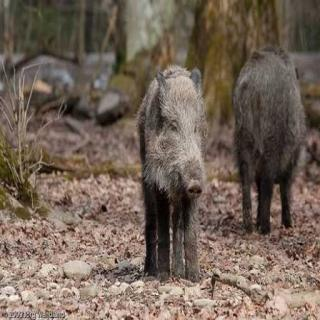Pig: (116, 62, 239, 287)
